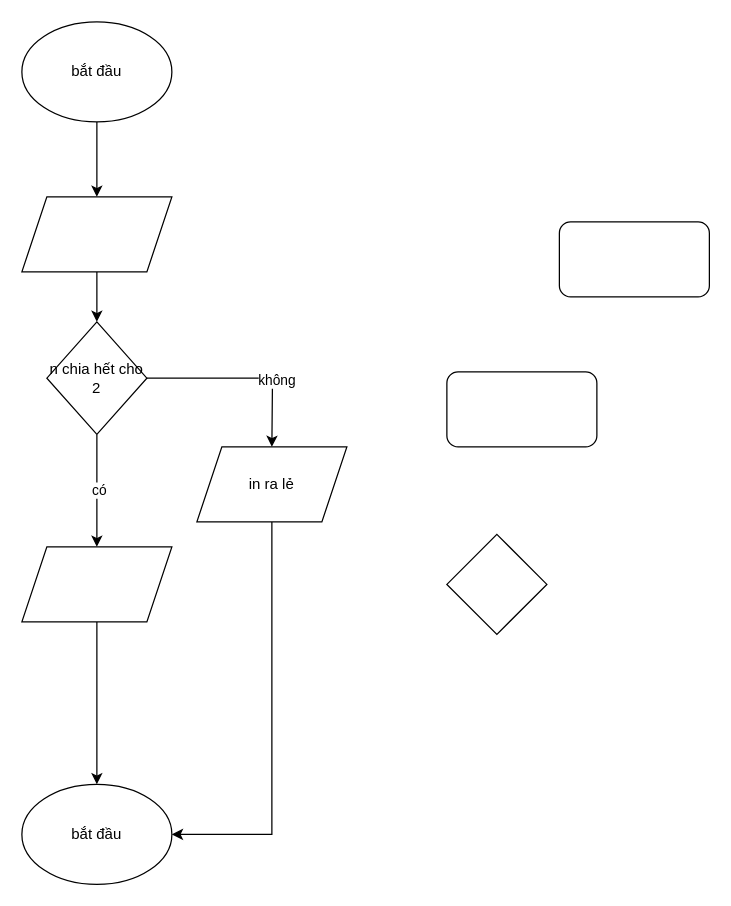
This 731x906 diagram has some shape labels left out. Each missing label, with the centre of its shape:
"in ra chẵn" goes at point (96, 584).
"Nhập số nguyên n" goes at point (96, 234).
